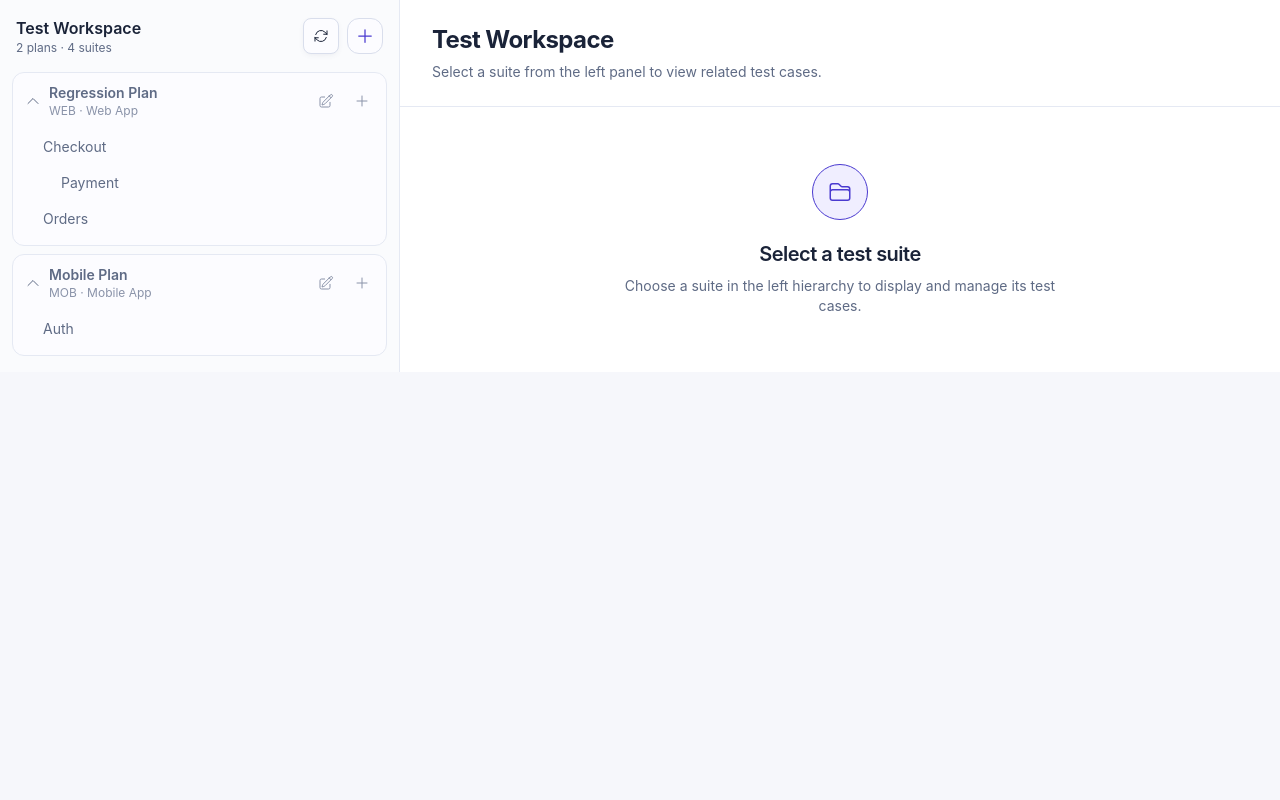
Test case: TestManagementWorkspace › blocks suite deletion in dialog when related counts exist
Right-click the button "Payment" at x=90, y=182, box [13,165,386,201]
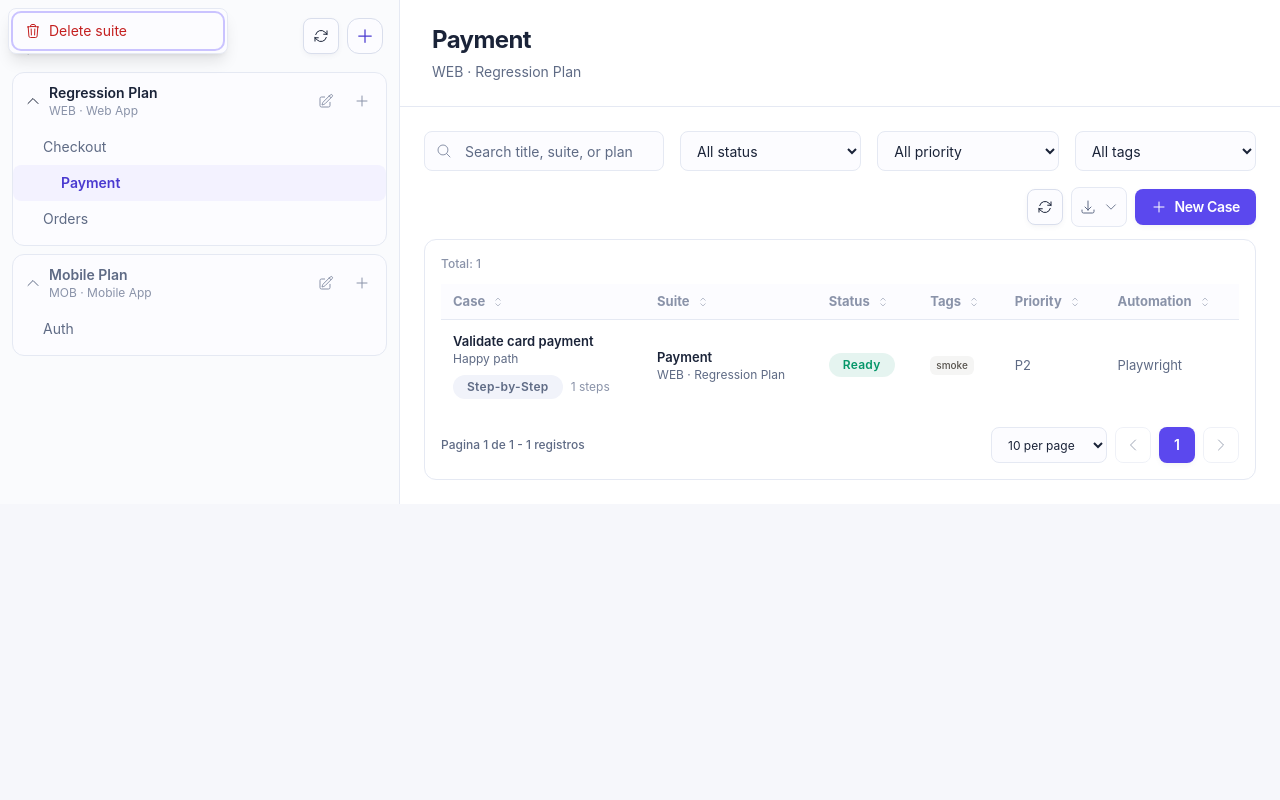
Click the menu item "Delete suite". click: x=118, y=31
box: [15,15,221,47]
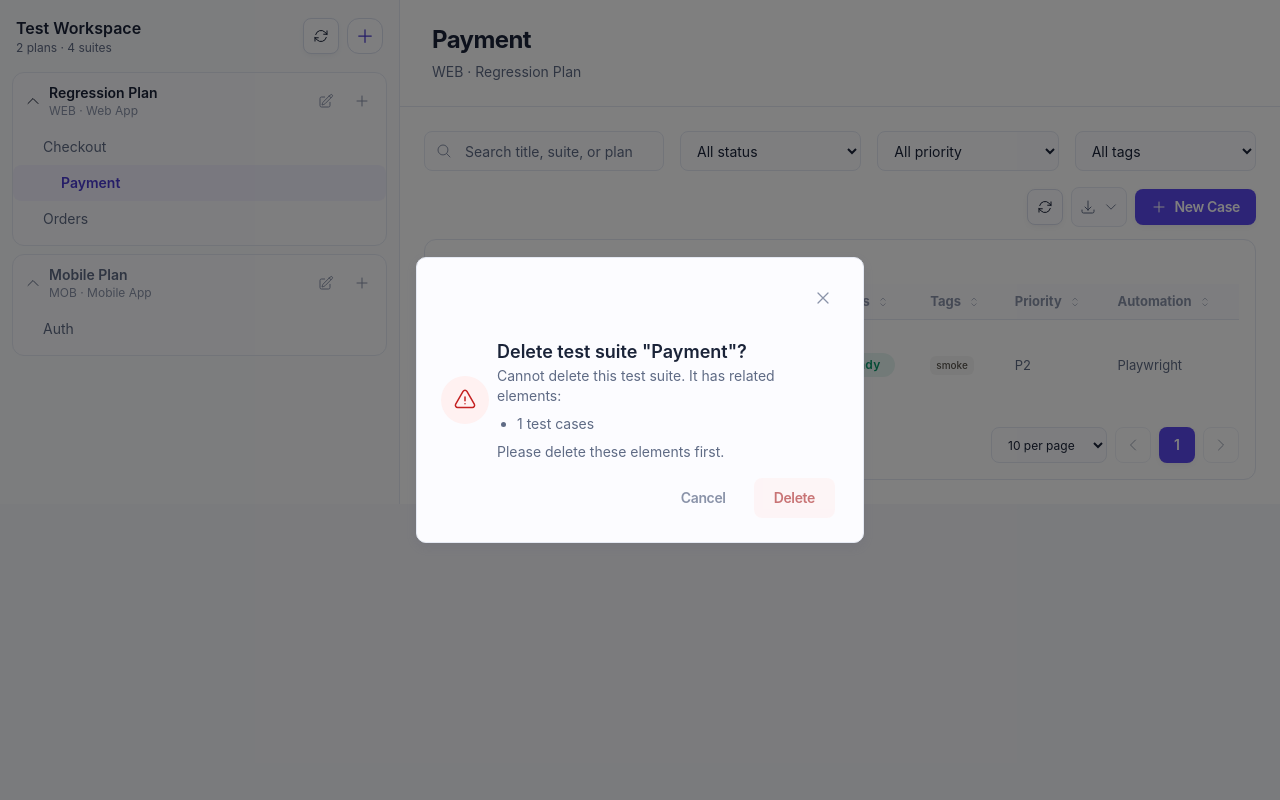
Check: the text "Cannot delete this test suite. It has related elements:" is shown, box [497,367,775,404]
Check: the list item "1 test cases" is shown, box [517,415,594,432]
Check: the button "Delete" is disabled, box [754,478,835,518]
